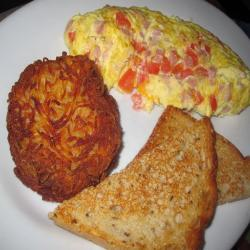bread: (47, 108, 244, 248)
omelette: (69, 4, 248, 117)
